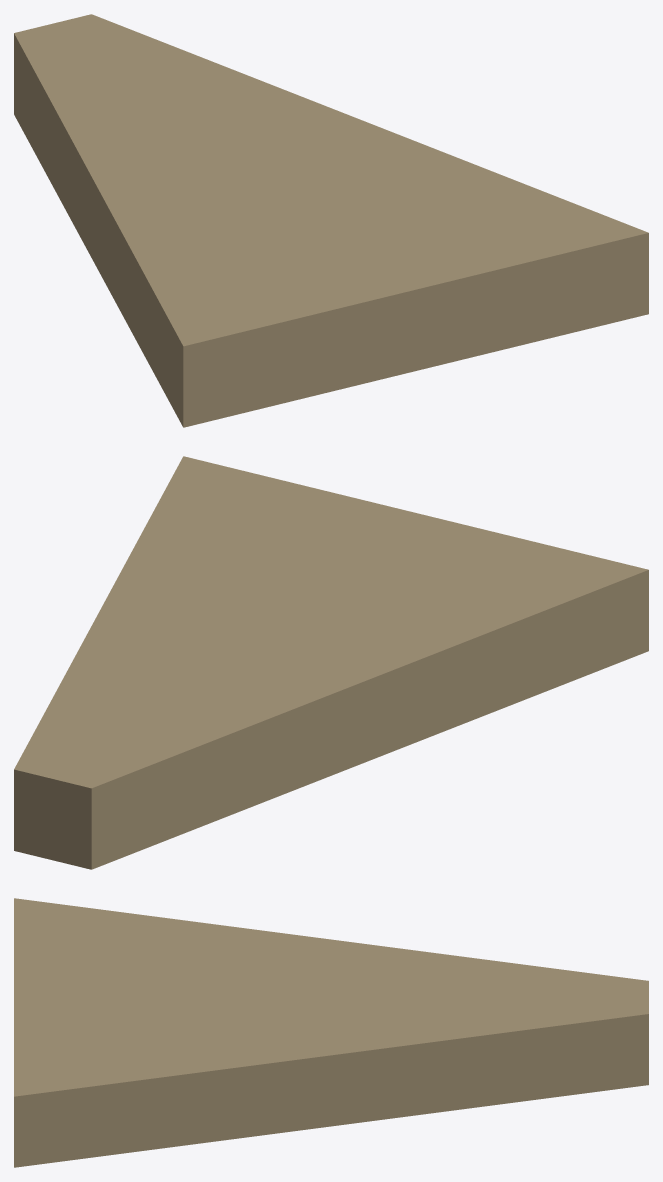
The model's file is cygnet_low.dae.
3 renders of one model, top to bottom at view 1: azimuth 30°, elevation 25°; view 2: azimuth 150°, elevation 25°; view 3: azimuth 270°, elevation 25°, orthographic. The views are drawn at different scales.
Parts seen in each view (by area): view 1: Cube_001; view 2: Cube_001; view 3: Cube_001.
Boxes of the visible parts, x1,y1,x2,y2 form: Cube_001: (14, 14, 648, 427); Cube_001: (14, 456, 648, 869); Cube_001: (14, 898, 648, 1167).
Size of the model in its own units: 11.97 by 16.18 by 2.
